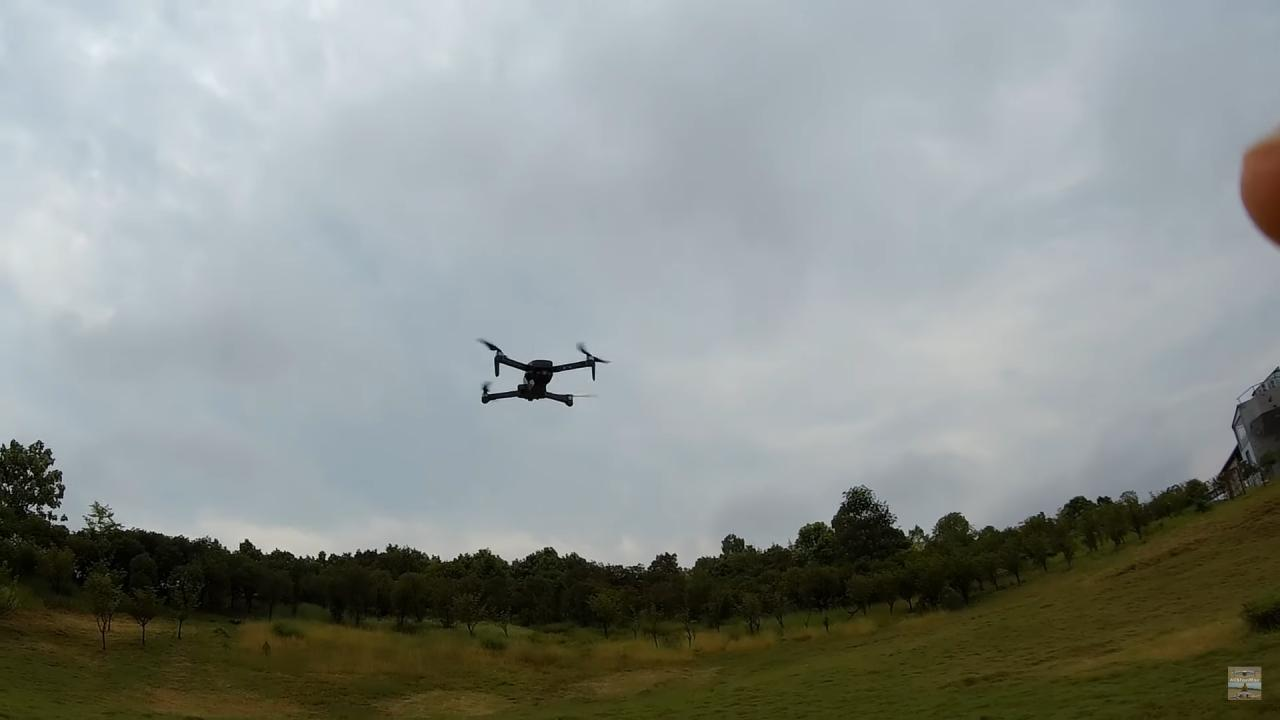Drone: (456, 327, 617, 417)
